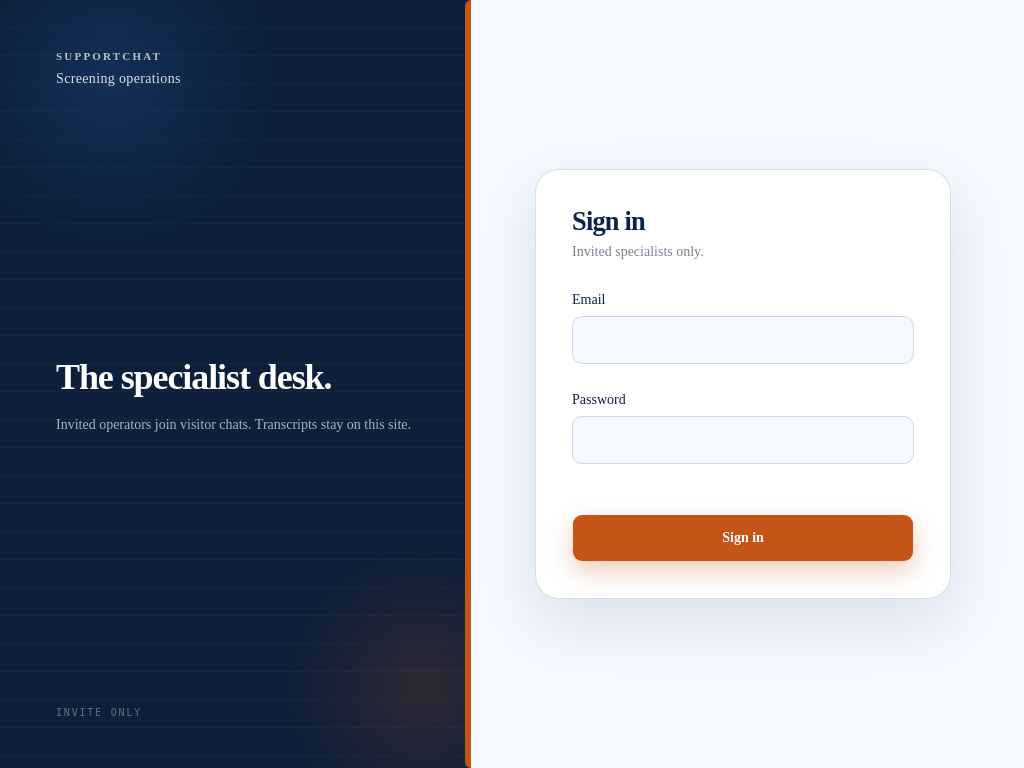
staff login › shows inline validation before attempting sign in
This screenshot has width=1024, height=768.
Click the button "Sign in" at (743, 538), box left=572, top=514, right=914, bottom=562
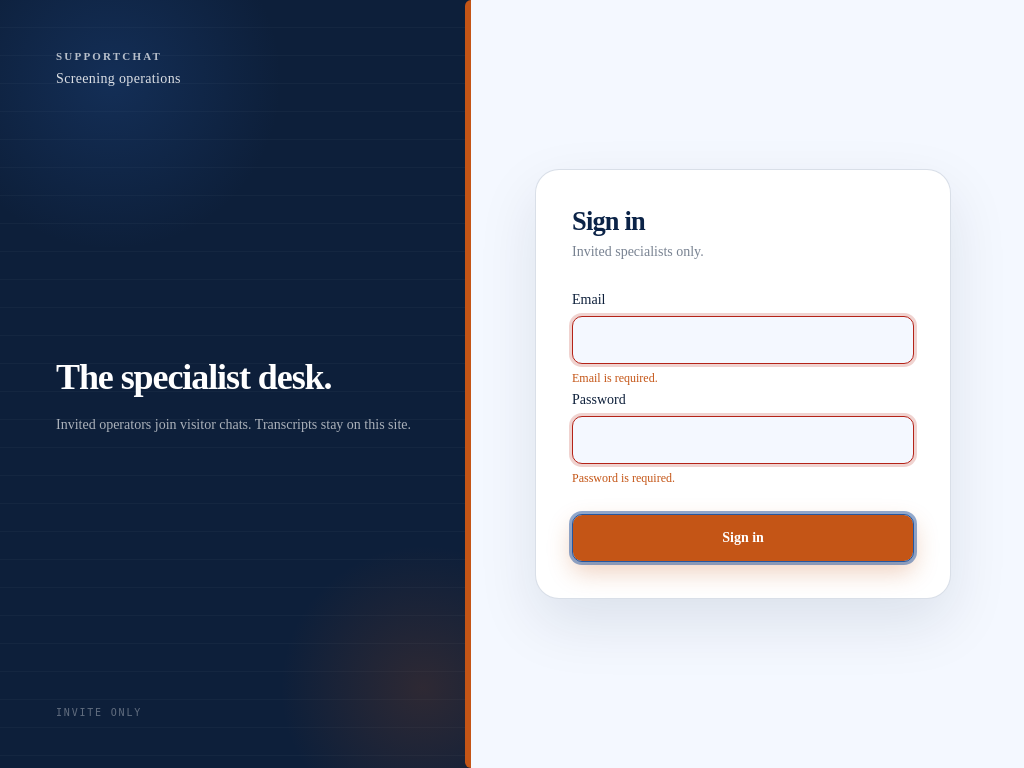
Expected: the text "Email is required." is shown, left=572, top=371, right=658, bottom=385
Expected: the text "Password is required." is shown, left=572, top=471, right=675, bottom=485
